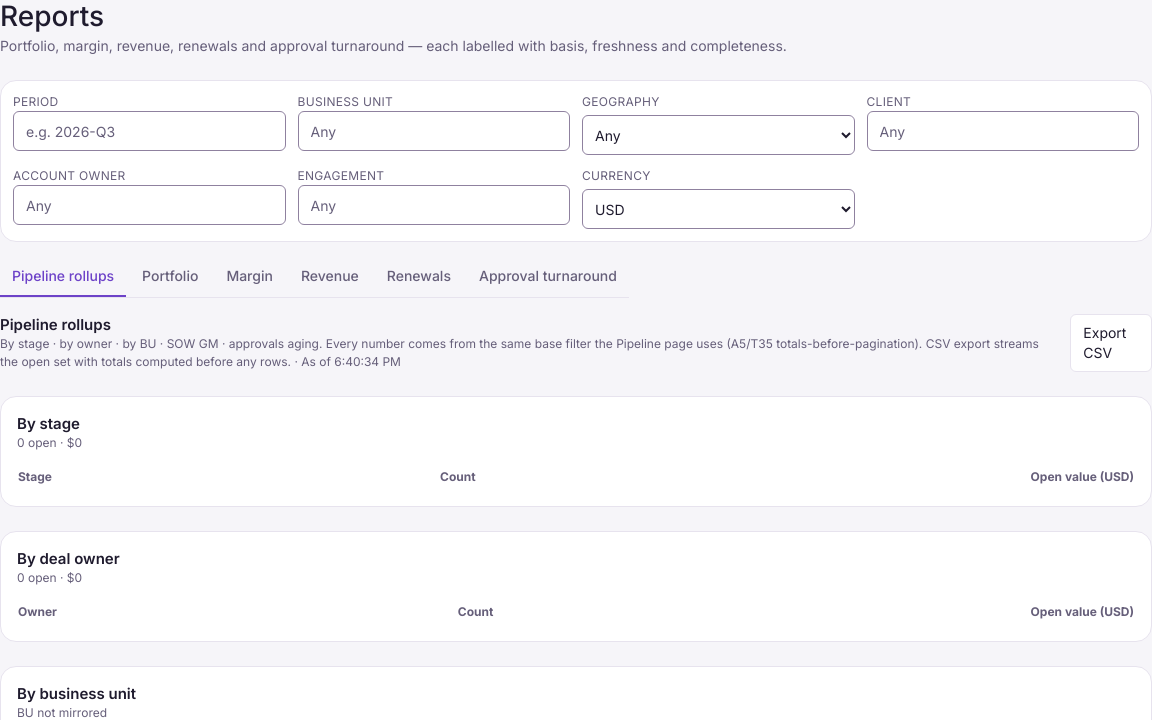
Test: ReportsPage › Approval turnaround tab degrades to 'No verified source' honestly
Click the tab with test id "tab-turnaround".
click(548, 278)  # box [467,258,629,297]
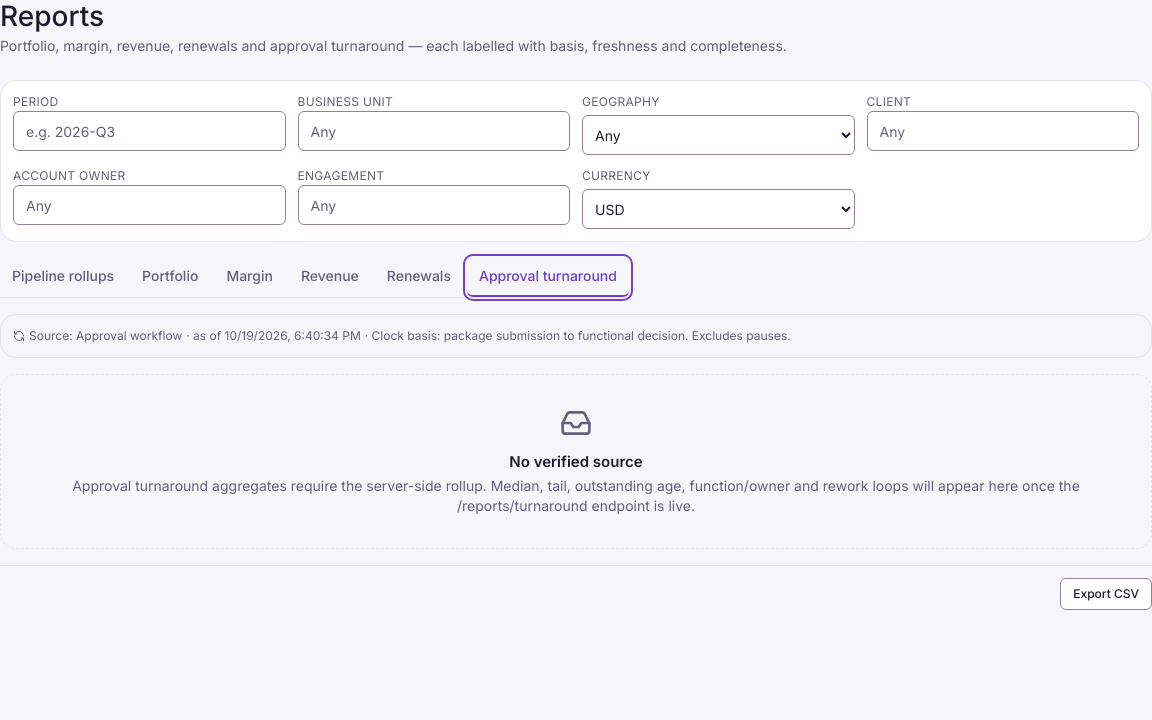
Now the heading "No verified source" is shown, box [509,452,643,471]
